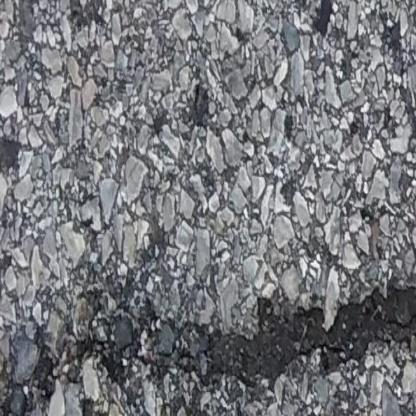Cracks: (200, 284, 416, 396), (0, 330, 135, 416)
